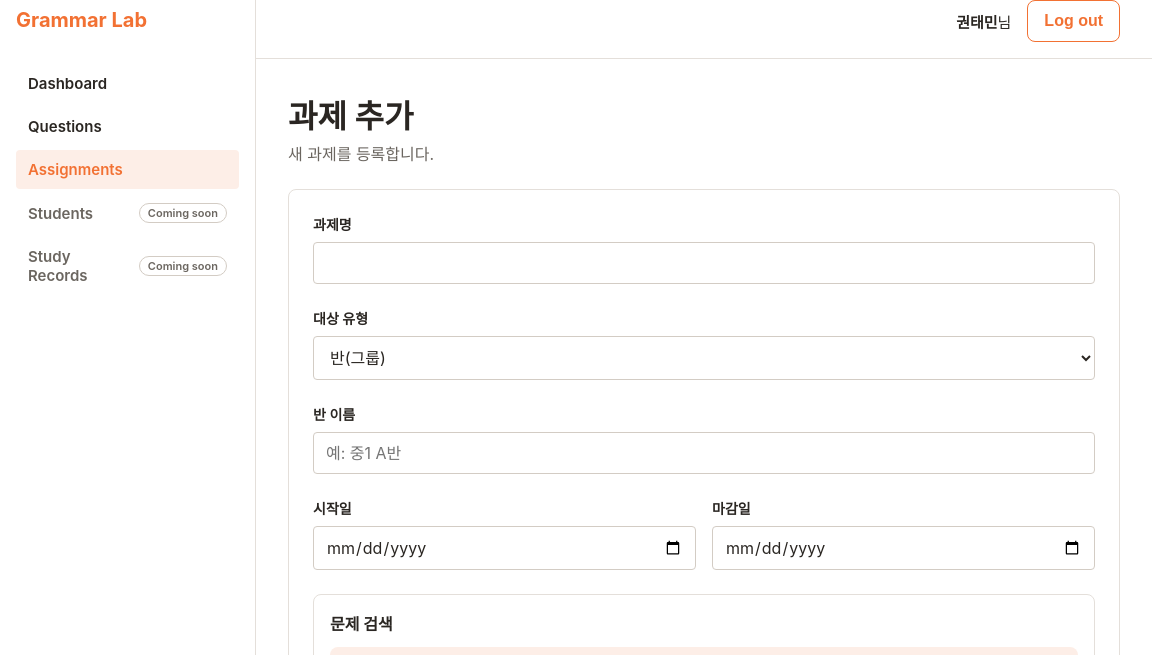
Test: AssignmentCreatePage › toggling target type clears the opposite target field and its error
The image size is (1152, 655).
Type "중1 A반" into the field labelled "반 이름". click: (704, 453)
box: [313,432,1095,474]
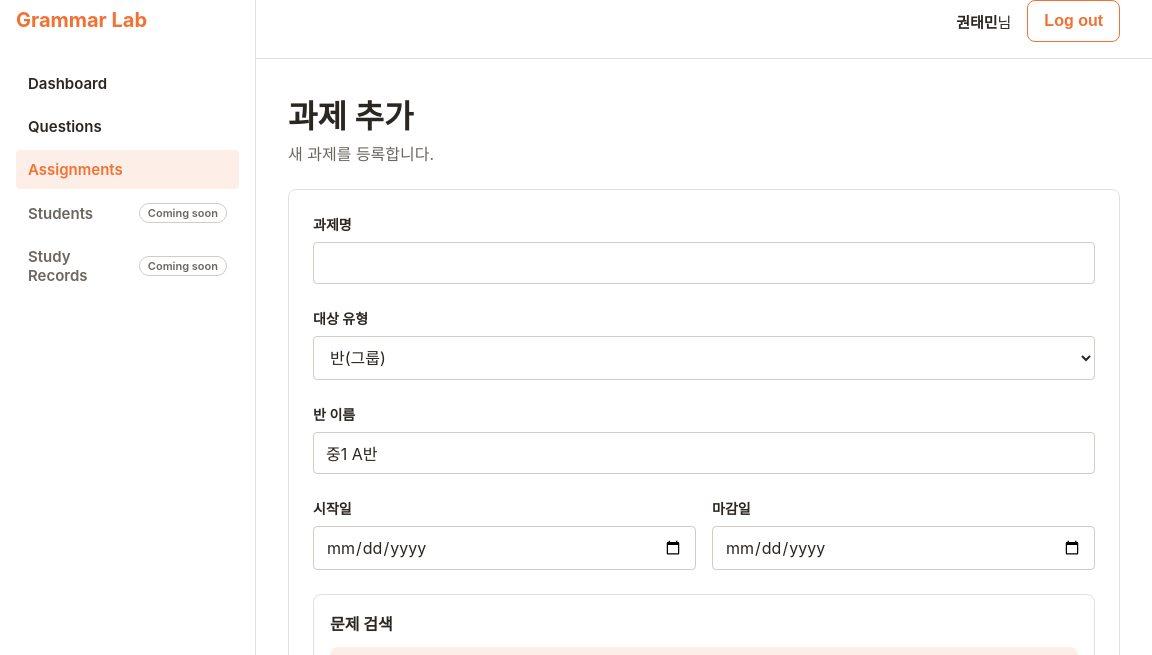
Select "개별 학생" in the dropdown labelled "대상 유형". click: (704, 358)
box: [313,336,1095,380]
(page scrolled)
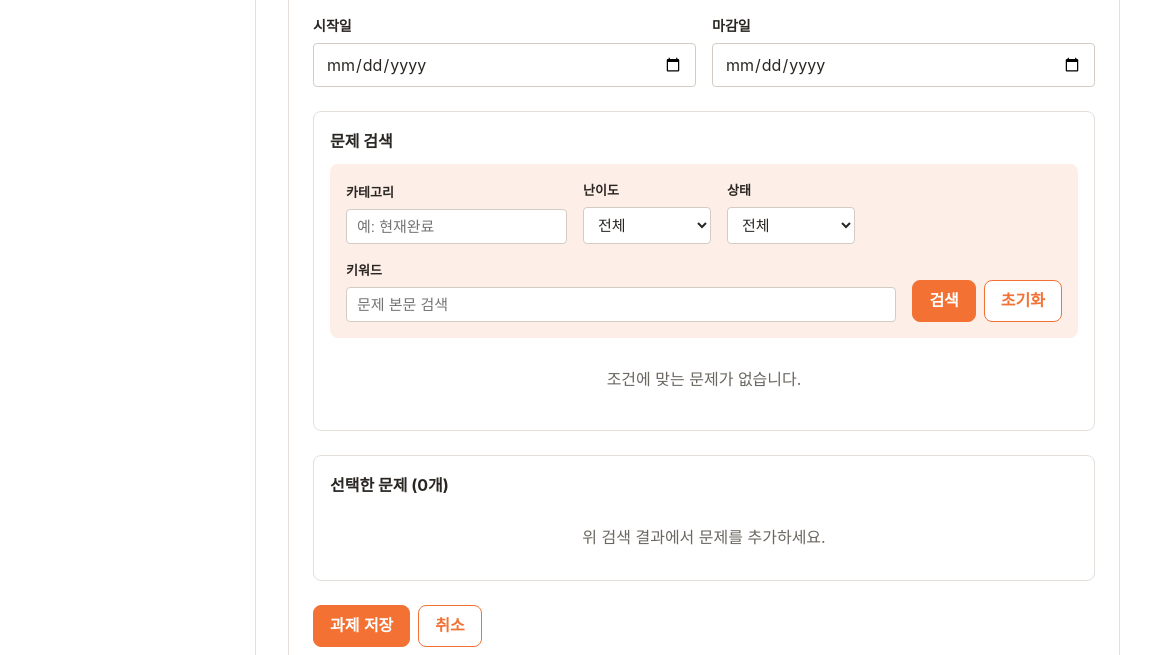
expect the label labelled "반 이름" is gone: met
Click the button "과제 저장". click: (362, 626)
box: [313,605,410,647]
(page scrolled)
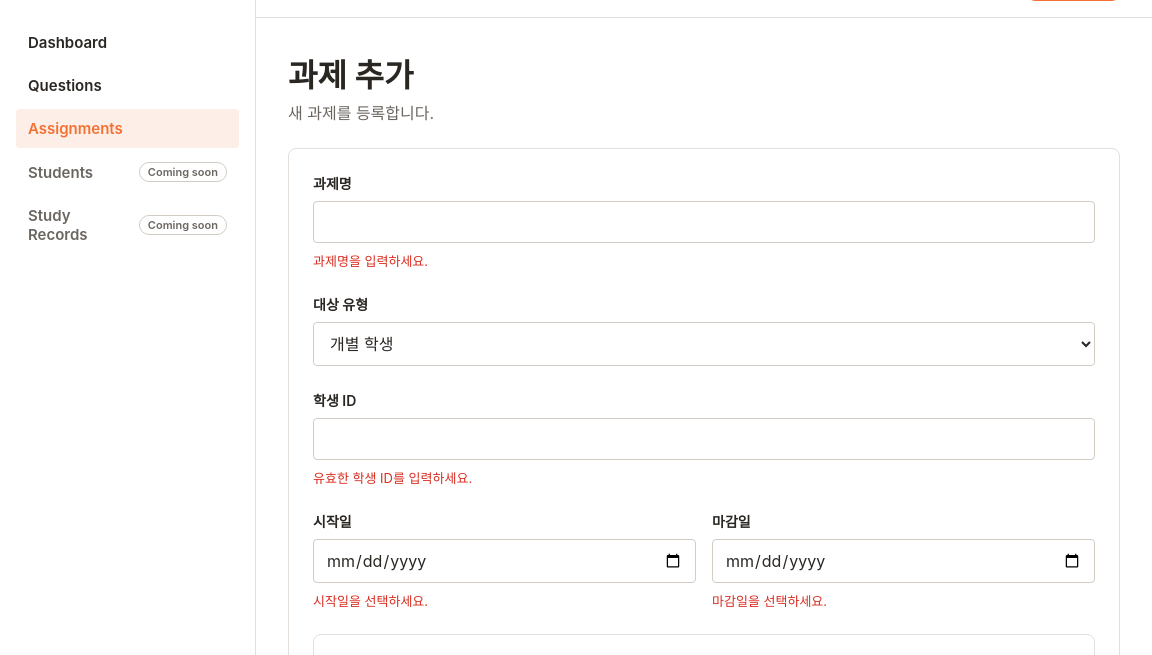
expect the text "유효한 학생 ID를 입력하세요." is shown: met, box [313,470,472,486]
Select "반(그룹)" in the dropdown labelled "대상 유형". click: (704, 344)
box: [313,322,1095,366]
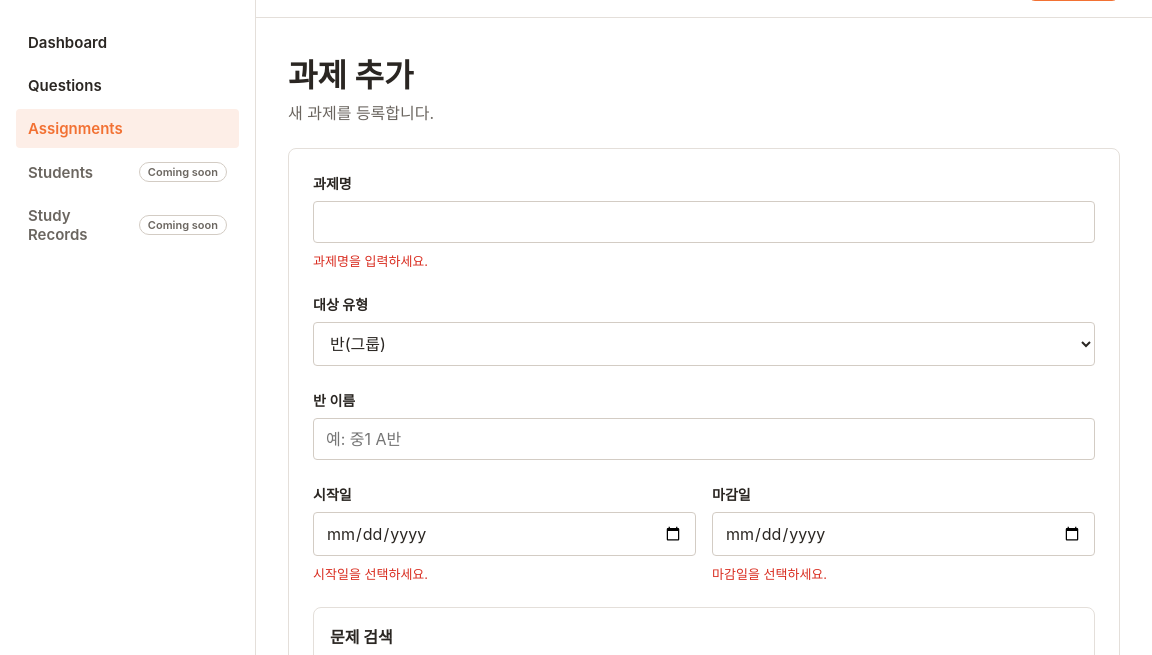
expect the field labelled "반 이름" is empty: met, box [313,418,1095,460]
expect the label labelled "학생 ID" is gone: met
expect the text "유효한 학생 ID를 입력하세요." is gone: met
